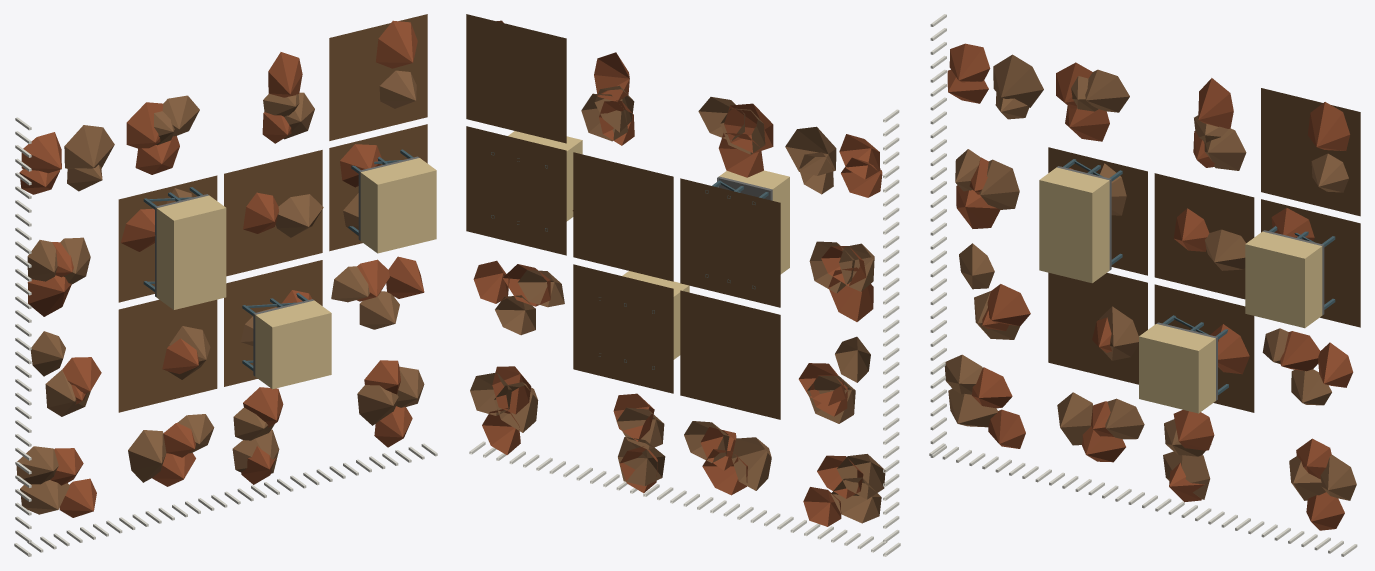
The model's file is construction_1.glb.
3 renders of one model, left to right at view 1: azimuth 30°, elevation 25°; view 2: azimuth 150°, elevation 25°; view 3: azimuth 330°, elevation 25°, orthographic.
Parts seen in each view (by area): view 1: t12_g106.001, t32_g114.001, t21_g109.001, t33_g115.001, t22_g110.001, t11_g105.001, t00_g100.001, t03_g103.001, t10_g104.001, t30_g112.001, t20_g108.001, t02_g102.001 (+4 smaller); view 2: t12_g106.001, t32_g114.001, t21_g109.001, t33_g115.001, t22_g110.001, t11_g105.001, t00_g100.001, t03_g103.001, t10_g104.001, t30_g112.001, t02_g102.001, t20_g108.001 (+4 smaller); view 3: t12_g106.001, t32_g114.001, t21_g109.001, t33_g115.001, t22_g110.001, t11_g105.001, t00_g100.001, t03_g103.001, t10_g104.001, t30_g112.001, t02_g102.001, t20_g108.001 (+4 smaller).
Part boxes in pixels (x1,y1,x2,y2): t12_g106.001: (118, 175, 226, 309); t32_g114.001: (329, 124, 436, 253); t21_g109.001: (224, 260, 331, 389); t33_g115.001: (329, 14, 427, 140); t22_g110.001: (224, 150, 323, 276); t11_g105.001: (118, 299, 217, 412); t00_g100.001: (14, 446, 122, 556); t03_g103.001: (15, 117, 114, 226); t10_g104.001: (119, 414, 227, 529); t30_g112.001: (329, 360, 437, 478); t20_g108.001: (224, 387, 332, 504); t02_g102.001: (15, 227, 90, 336); t12_g106.001: (680, 170, 789, 307); t32_g114.001: (466, 126, 582, 255); t21_g109.001: (573, 264, 689, 393); t33_g115.001: (466, 14, 566, 143); t22_g110.001: (572, 152, 673, 281); t11_g105.001: (680, 290, 780, 419); t00_g100.001: (790, 445, 900, 556); t03_g103.001: (785, 109, 899, 220); t10_g104.001: (683, 421, 793, 529); t30_g112.001: (469, 366, 579, 477); t02_g102.001: (809, 221, 899, 332); t20_g108.001: (576, 393, 686, 503); t12_g106.001: (1039, 147, 1147, 283); t32_g114.001: (1245, 199, 1360, 328); t21_g109.001: (1139, 284, 1254, 413); t33_g115.001: (1261, 88, 1360, 216); t22_g110.001: (1154, 173, 1254, 299); t11_g105.001: (1048, 272, 1147, 384); t00_g100.001: (929, 347, 1038, 478); t03_g103.001: (930, 14, 1043, 124); t10_g104.001: (1035, 392, 1144, 504); t30_g112.001: (1248, 438, 1357, 556); t02_g102.001: (930, 125, 1019, 235); t20_g108.001: (1142, 410, 1250, 530).
Bounding box in the file's own units: 62.88 × 63.16 × 8.5.
